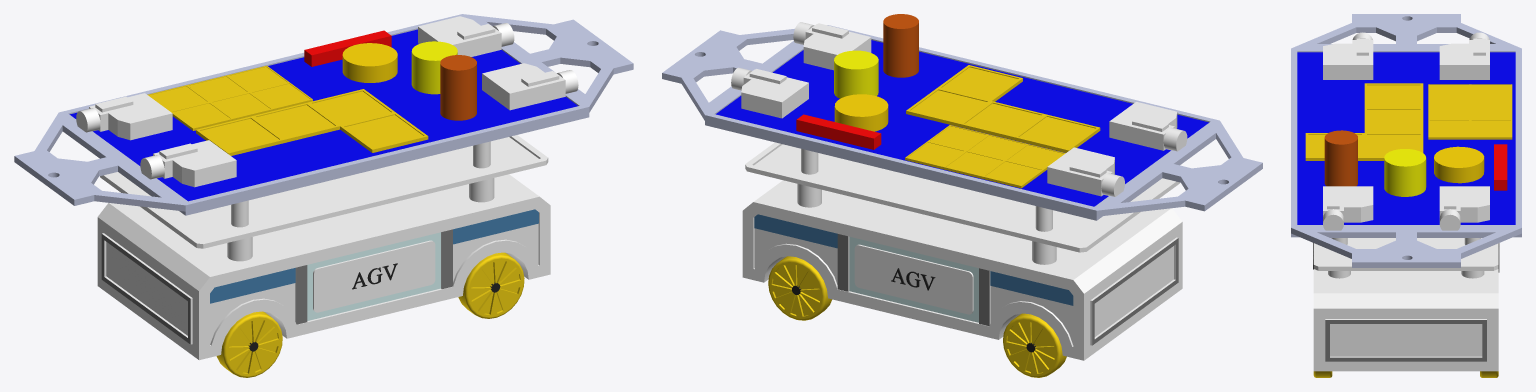
File: agv.obj
The picture shows the model from 3 angles, left to right: view 1: azimuth 30°, elevation 25°; view 2: azimuth 150°, elevation 25°; view 3: azimuth 270°, elevation 25°; orthographic projection. The views are drawn at different scales.
Visible parts, largest first — view 1: [0130_Gainsboro], [0131_Silver], Default 150:150:150, [0103_Blue], [0045_Goldenrod], [0134_DimGray], [0100_SteelBlue], [0133_Gray], [0037_SandyBrown]1, [0090_LightCyan], [0046_Gold], [0056_Yellow]3 (+3 smaller); view 2: [0130_Gainsboro], Default 150:150:150, [0131_Silver], [0103_Blue], [0045_Goldenrod], [0134_DimGray], [0100_SteelBlue], [0133_Gray], [0037_SandyBrown]1, [0090_LightCyan], [0056_Yellow]3, [0046_Gold] (+3 smaller); view 3: [0130_Gainsboro], [0103_Blue], Default 150:150:150, [0045_Goldenrod], [0131_Silver], [0056_Yellow]3, [0037_SandyBrown]1, [0133_Gray], [0046_Gold], [0020_Red], [0118_Thistle], [0134_DimGray].
Boxes of the visible parts, x1=… form: [0130_Gainsboro]: x1=97, y1=135, x2=550, y2=360; [0131_Silver]: x1=76, y1=16, x2=578, y2=344; Default 150:150:150: x1=14, y1=14, x2=633, y2=227; [0103_Blue]: x1=69, y1=29, x2=577, y2=201; [0045_Goldenrod]: x1=147, y1=65, x2=428, y2=155; [0134_DimGray]: x1=216, y1=252, x2=524, y2=377; [0100_SteelBlue]: x1=210, y1=209, x2=538, y2=303; [0133_Gray]: x1=101, y1=229, x2=452, y2=344; [0037_SandyBrown]1: x1=440, y1=55, x2=476, y2=120; [0090_LightCyan]: x1=307, y1=232, x2=440, y2=320; [0046_Gold]: x1=342, y1=43, x2=397, y2=82; [0056_Yellow]3: x1=411, y1=41, x2=457, y2=94; [0130_Gainsboro]: x1=742, y1=142, x2=1182, y2=360; Default 150:150:150: x1=662, y1=25, x2=1262, y2=231; [0131_Silver]: x1=731, y1=22, x2=1187, y2=344; [0103_Blue]: x1=716, y1=40, x2=1208, y2=206; [0045_Goldenrod]: x1=905, y1=65, x2=1100, y2=188; [0134_DimGray]: x1=768, y1=256, x2=1066, y2=377; [0100_SteelBlue]: x1=754, y1=214, x2=1073, y2=305; [0133_Gray]: x1=837, y1=234, x2=1178, y2=345; [0037_SandyBrown]1: x1=883, y1=14, x2=918, y2=77; [0090_LightCyan]: x1=849, y1=236, x2=978, y2=322; [0056_Yellow]3: x1=834, y1=50, x2=878, y2=98; [0046_Gold]: x1=834, y1=94, x2=888, y2=131; [0130_Gainsboro]: x1=1313, y1=238, x2=1498, y2=371; [0103_Blue]: x1=1297, y1=52, x2=1515, y2=224; Default 150:150:150: x1=1291, y1=14, x2=1521, y2=267; [0045_Goldenrod]: x1=1305, y1=83, x2=1512, y2=160; [0131_Silver]: x1=1323, y1=32, x2=1489, y2=230; [0056_Yellow]3: x1=1384, y1=149, x2=1426, y2=196; [0037_SandyBrown]1: x1=1324, y1=130, x2=1357, y2=186; [0133_Gray]: x1=1325, y1=320, x2=1486, y2=361; [0046_Gold]: x1=1434, y1=146, x2=1484, y2=183; [0020_Red]: x1=1494, y1=144, x2=1507, y2=190; [0118_Thistle]: x1=1328, y1=271, x2=1484, y2=278; [0134_DimGray]: x1=1313, y1=371, x2=1498, y2=377.
Bounding box in the file's own units: 110 × 47.15 × 43.31.
